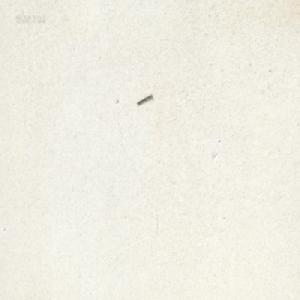Bolt: (135, 91, 152, 104)
